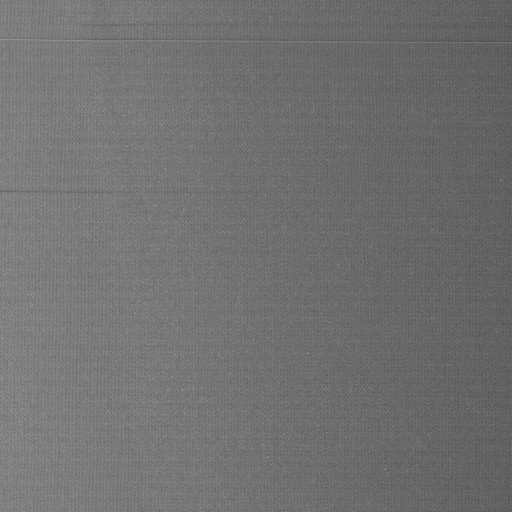defect: (1, 30, 512, 49)
